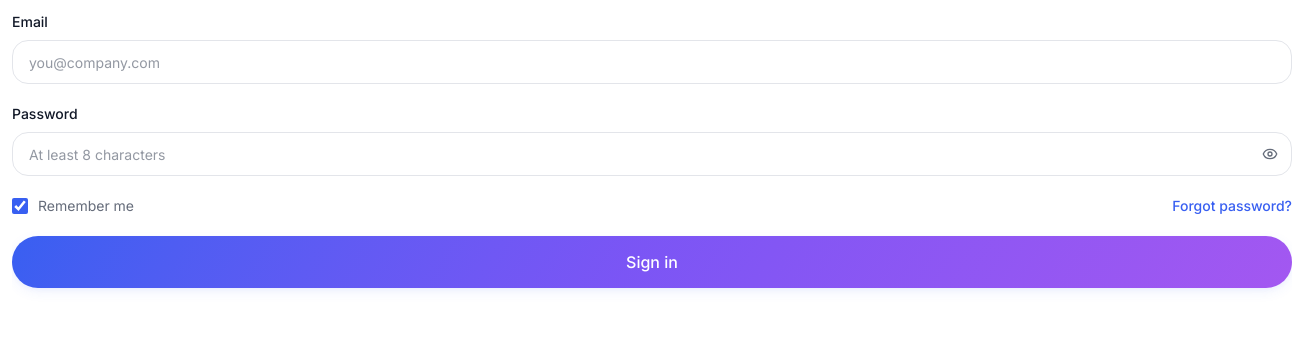
Test case: LoginForm › rejects a malformed email
Step 1. Type "owner@aliran" into the field labelled "Email" → (652, 62), box [12,40,1292,84]
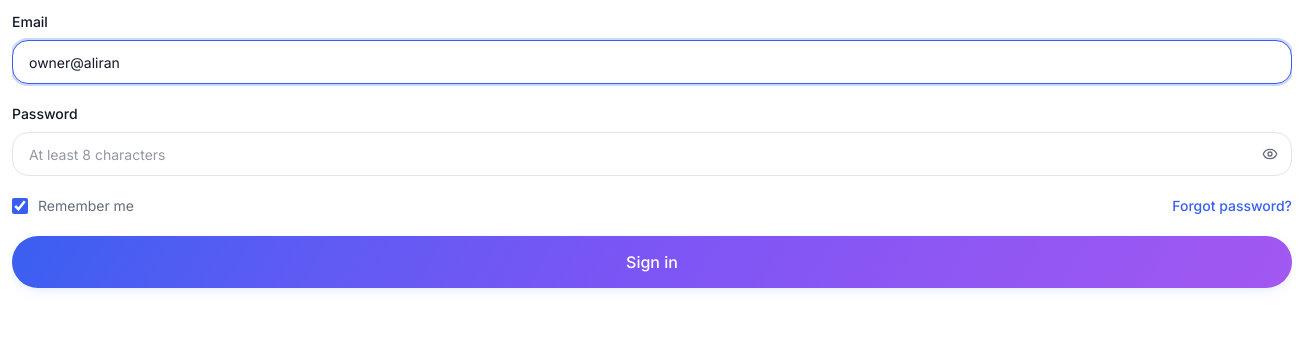
Step 2. Type "gudang-2019" into the password field labelled "Password" → (652, 154), box [12,132,1292,176]
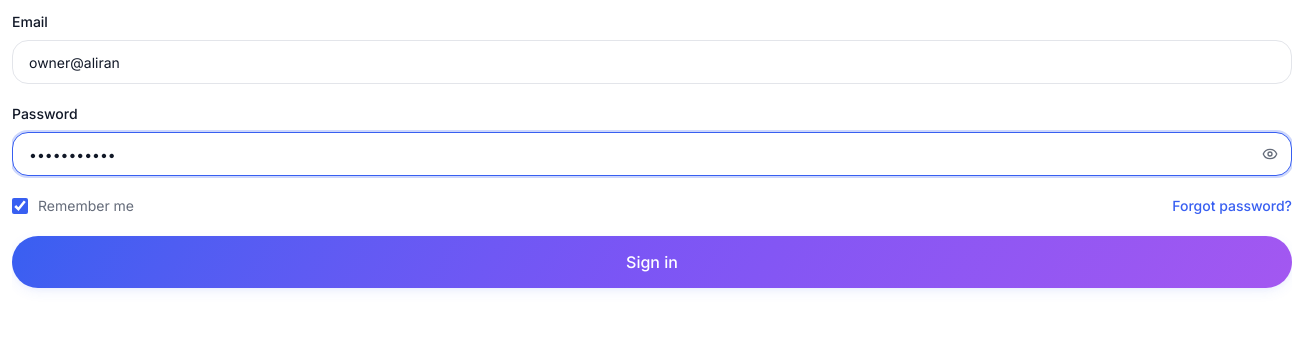
Step 3. Click the button "Sign in" → (652, 262), box [12,236,1292,288]
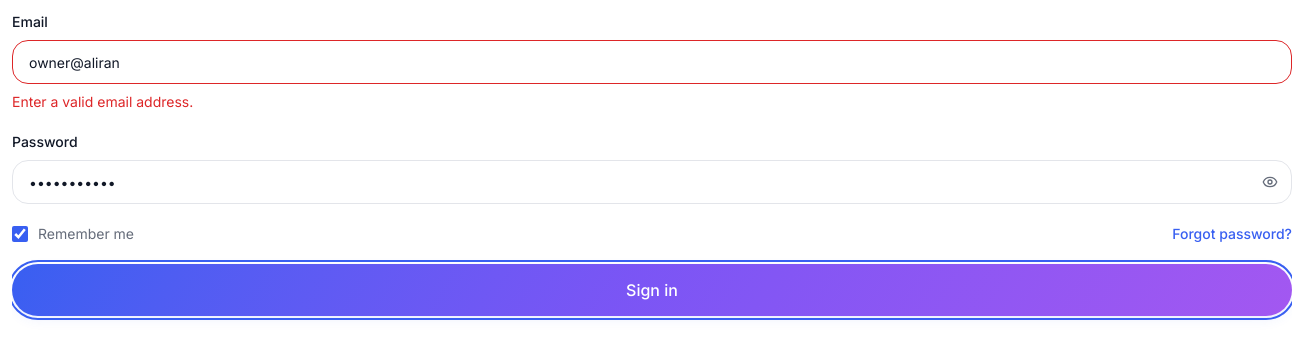
Result: the number of messages is 1 at [12,93,193,110]
